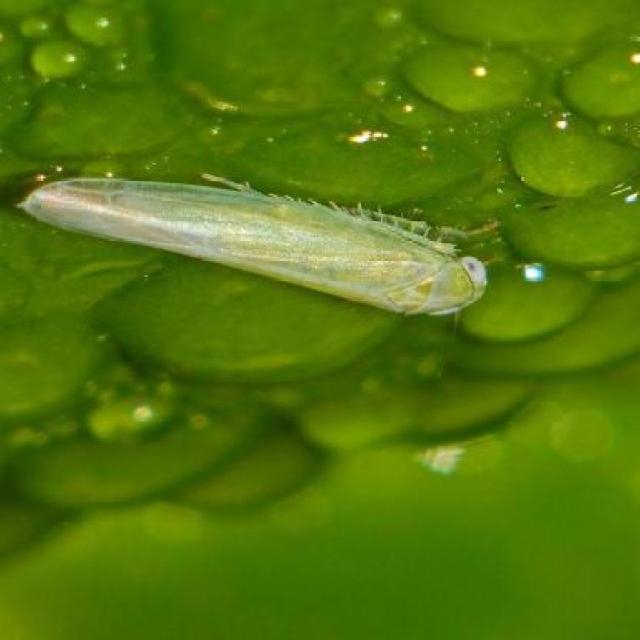green-leafhopper: (22, 162, 503, 324)
